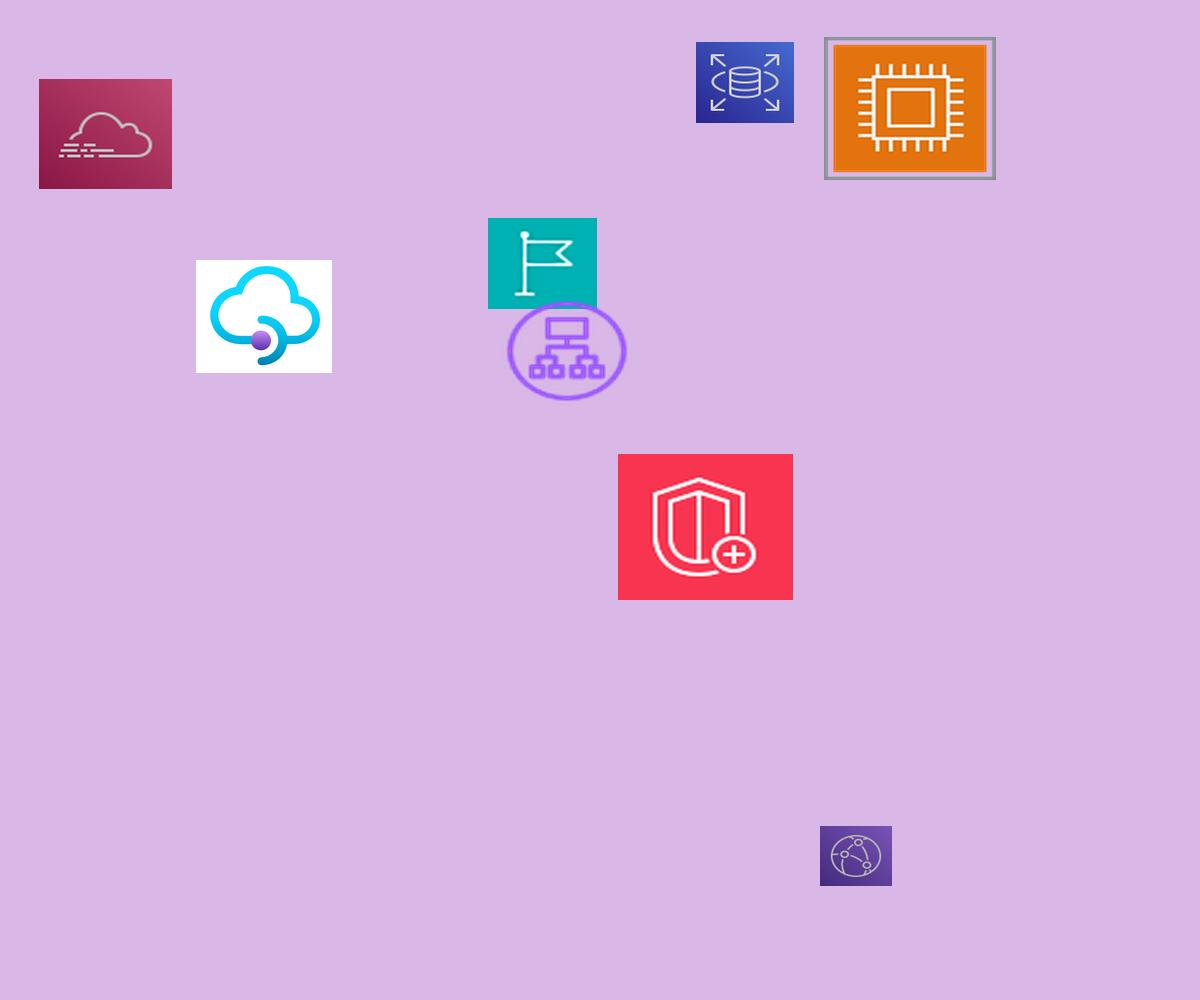AWS-Category_Compute: (824, 37, 996, 180)
AWS-CloudFront: (820, 826, 892, 886)
AWS-CloudTrail: (39, 79, 172, 189)
AWS-RDS: (696, 42, 794, 123)
AWS-Region: (488, 218, 597, 309)
AWS-Res_Elastic-Load-Balancing_Application-Load-Balancer: (502, 297, 632, 405)
AWS-Shield: (618, 454, 793, 600)
Azure_api_gateway: (196, 260, 332, 373)
